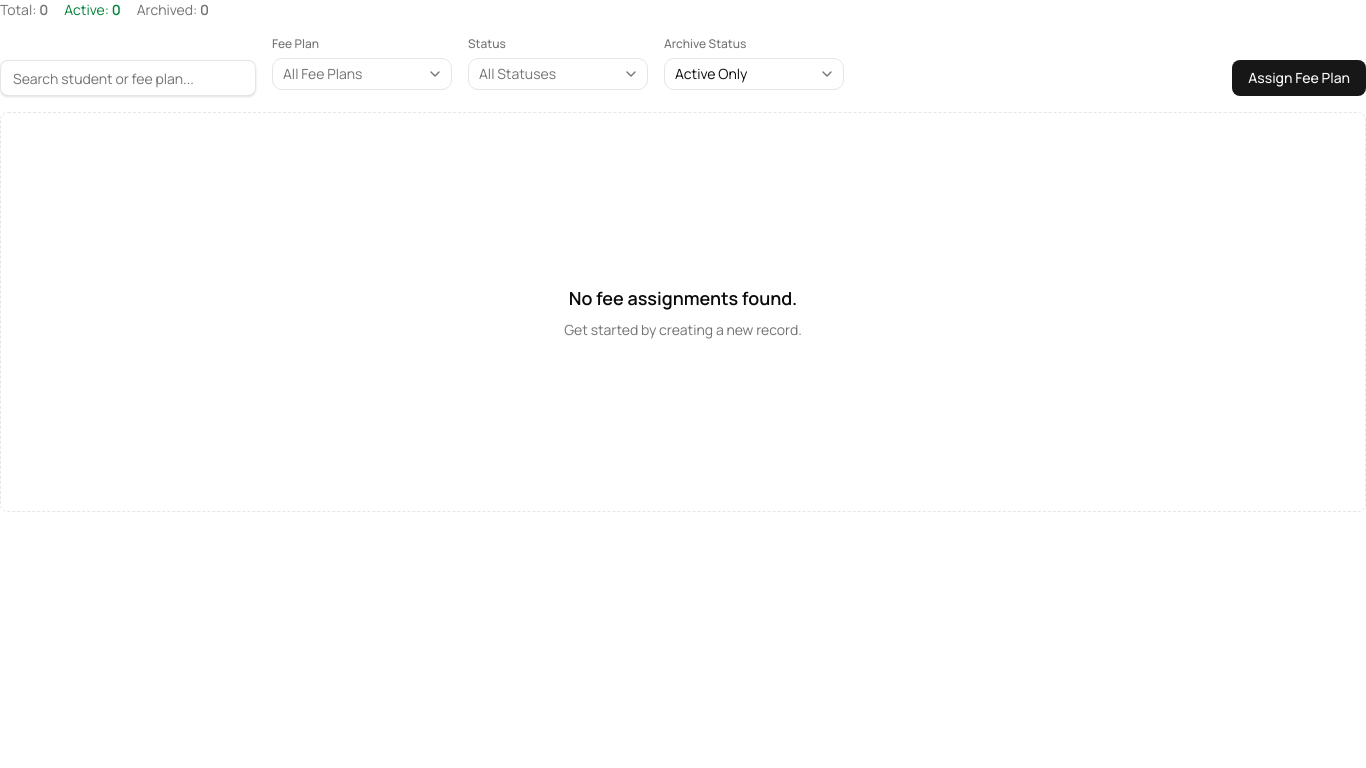
Test: FeeAssignmentList UI › 8. assign button and preview dialog open
Click the button "Assign Fee Plan" at (1299, 78), box [1232,60,1365,96]
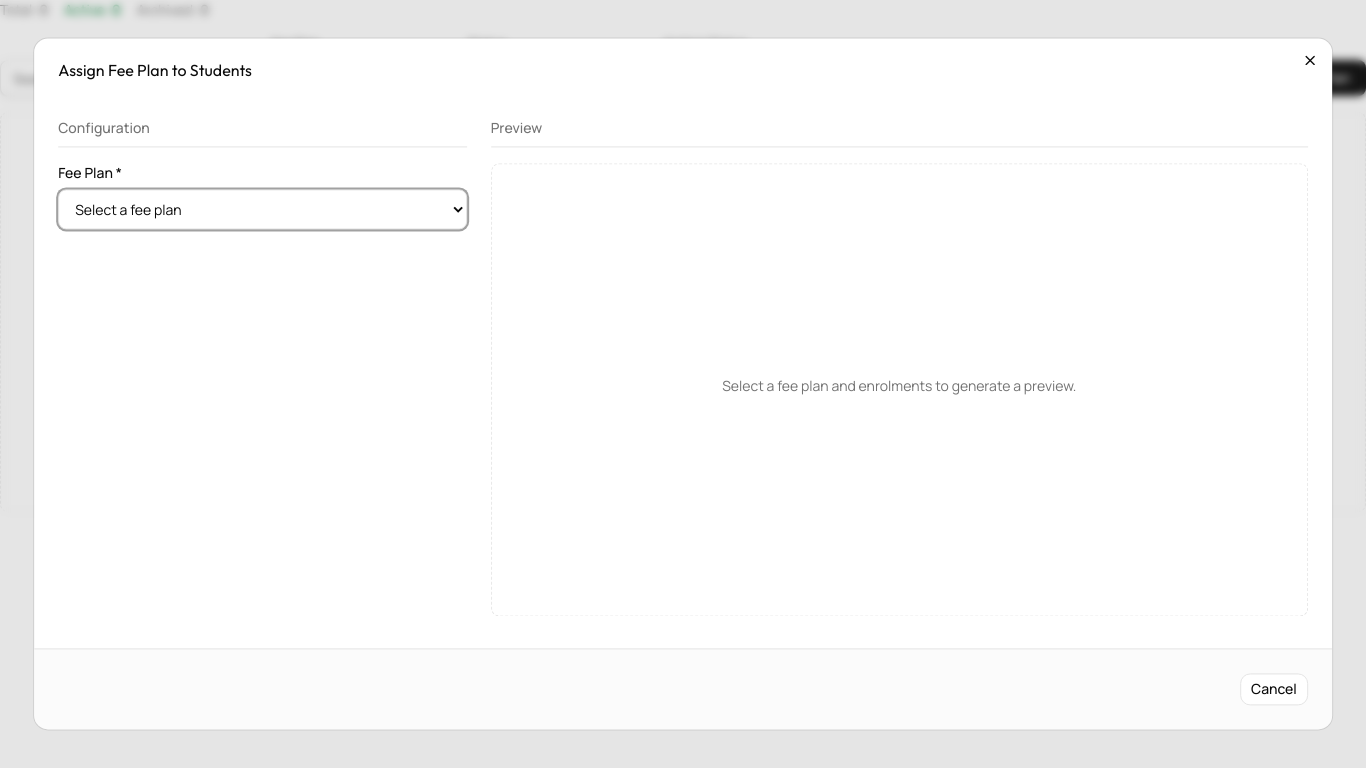
Expected: the heading "Assign Fee Plan to Students" is shown, [58,60,252,80]
Expected: the text "Select a fee plan and enrolments to generate a preview." is shown, [722,376,1076,396]
